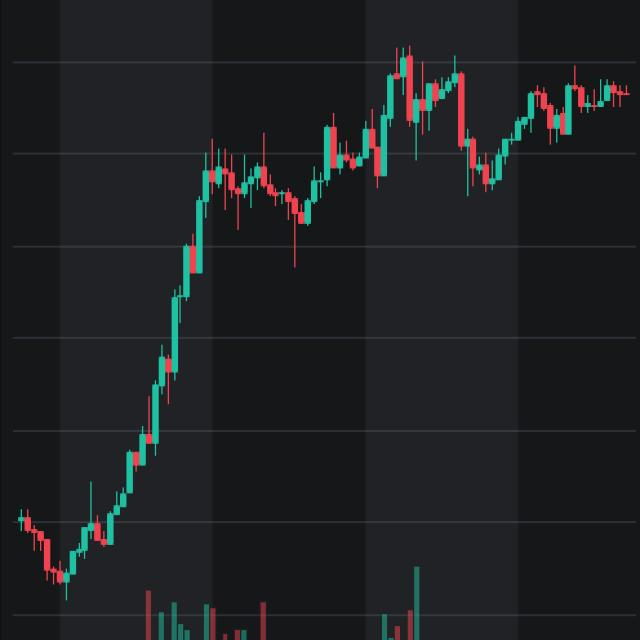Resistance-breakout: (19, 132, 223, 598)
